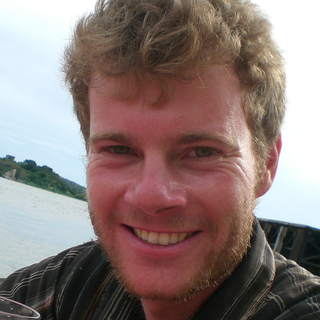eye: (94, 138, 142, 165), (169, 143, 227, 163)
